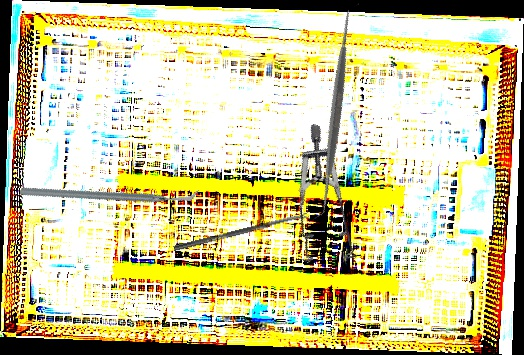Chopper: (18, 120, 200, 265)
Spatula Surgical: (226, 3, 445, 221)
Speculum: (254, 122, 403, 282)
Surgical Spoon: (173, 212, 310, 252)
